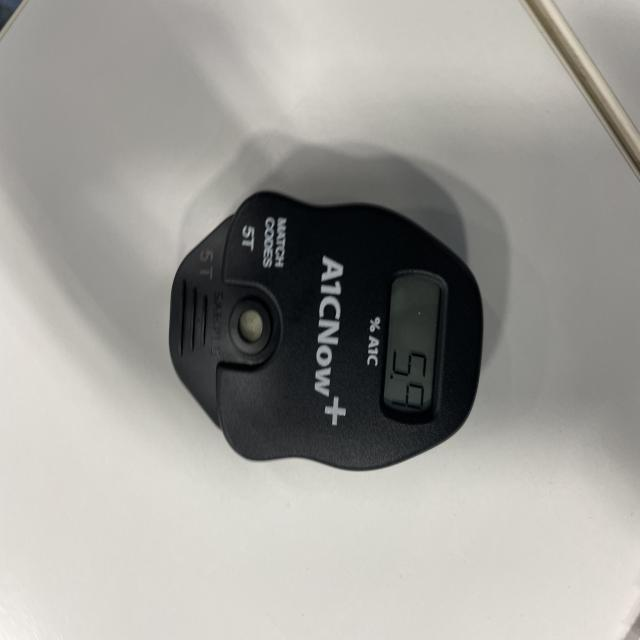hba1c: (167, 190, 486, 475)
